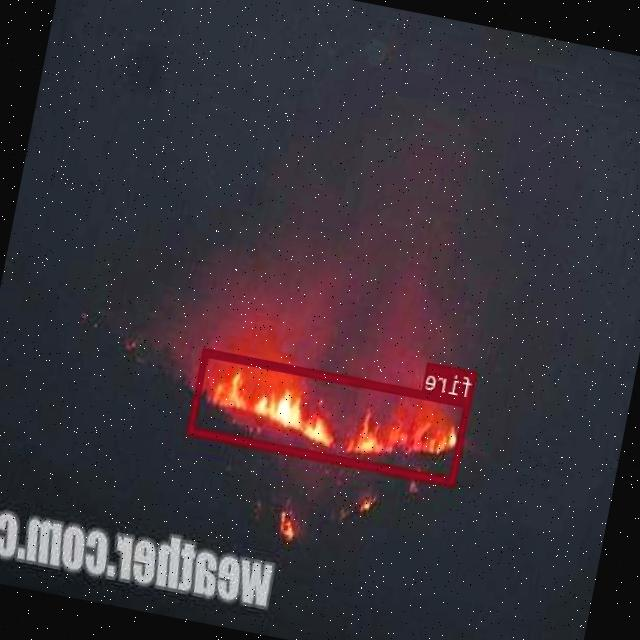fire: (189, 348, 473, 485)
